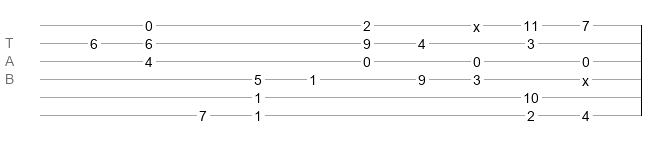0: (145, 18, 153, 28), (363, 54, 371, 64), (473, 54, 481, 64), (582, 54, 590, 64)
1: (254, 90, 262, 100), (254, 108, 262, 118), (309, 72, 317, 82)
10: (523, 90, 539, 100)
11: (523, 18, 539, 28)
2: (363, 18, 371, 28), (527, 108, 535, 118)
3: (473, 72, 481, 82), (527, 36, 535, 46)
4: (145, 54, 153, 64), (418, 36, 426, 46), (582, 108, 590, 118)
5: (254, 72, 262, 82)
6: (90, 36, 98, 46), (145, 36, 153, 46)
7: (199, 108, 207, 118), (582, 18, 590, 28)
9: (363, 36, 371, 46), (418, 72, 426, 82)
x: (473, 19, 480, 27), (582, 73, 589, 81)
